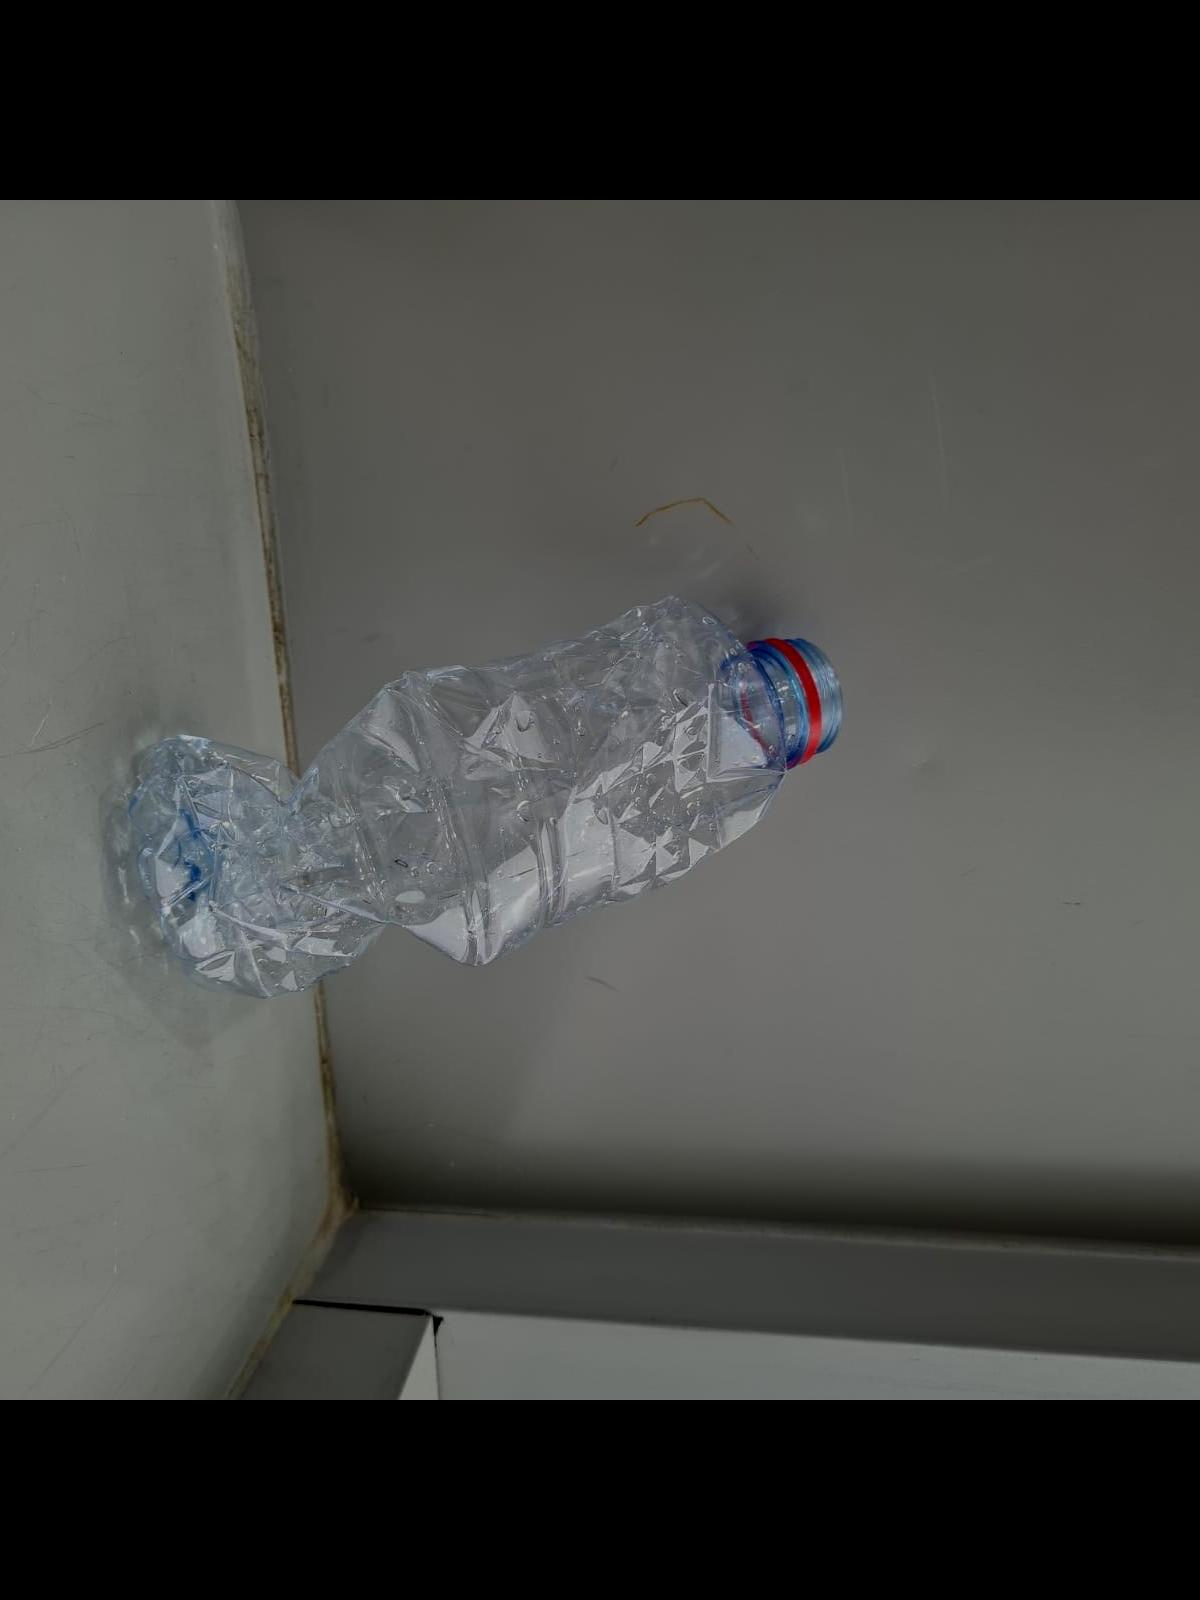bottle: (126, 627, 839, 998)
